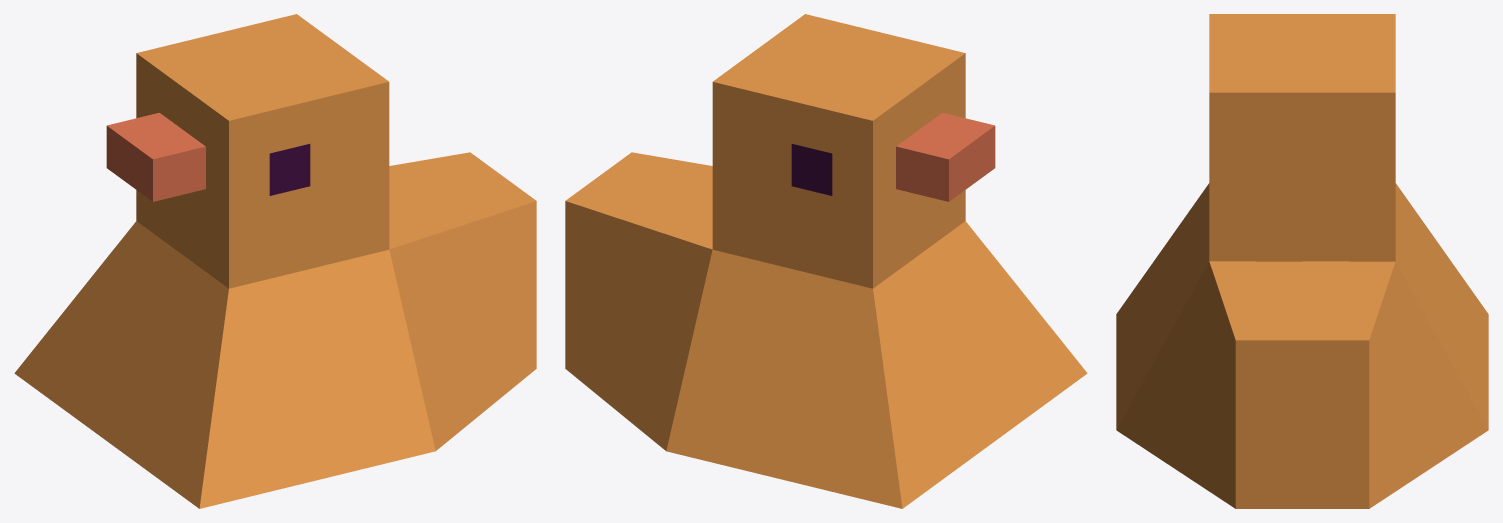
File: rubber_duck.gltf
3 renders of one model, left to right at view 1: azimuth 30°, elevation 25°; view 2: azimuth 150°, elevation 25°; view 3: azimuth 270°, elevation 25°, orthographic.
Visible parts, largest first — view 1: rubber_duck; view 2: rubber_duck; view 3: rubber_duck.
Boxes of the visible parts, left/top/right/bottom form: rubber_duck: left=14, top=14, right=536, bottom=508; rubber_duck: left=565, top=14, right=1087, bottom=508; rubber_duck: left=1116, top=14, right=1488, bottom=508.
Size of the model in its own units: 1.24 by 1 by 1.
Materials: 1 (1 with a texture image).
